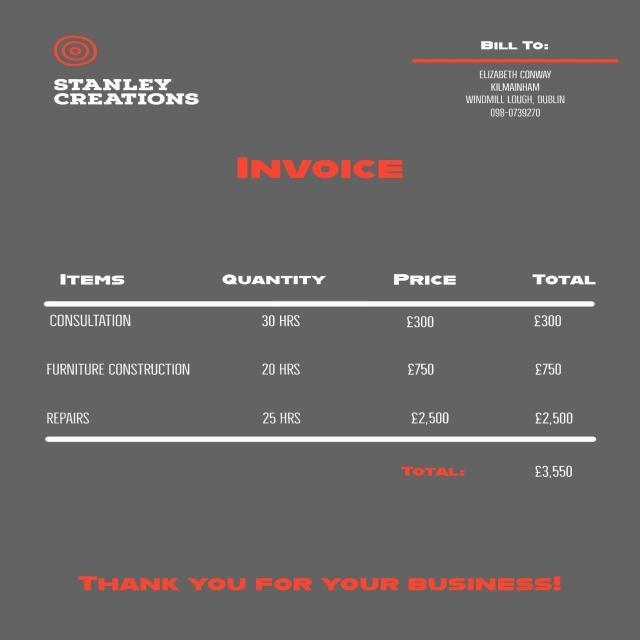ROI: (37, 266, 618, 434), (70, 568, 573, 602), (458, 33, 582, 120), (227, 147, 412, 188), (44, 66, 220, 109), (392, 458, 586, 486)
